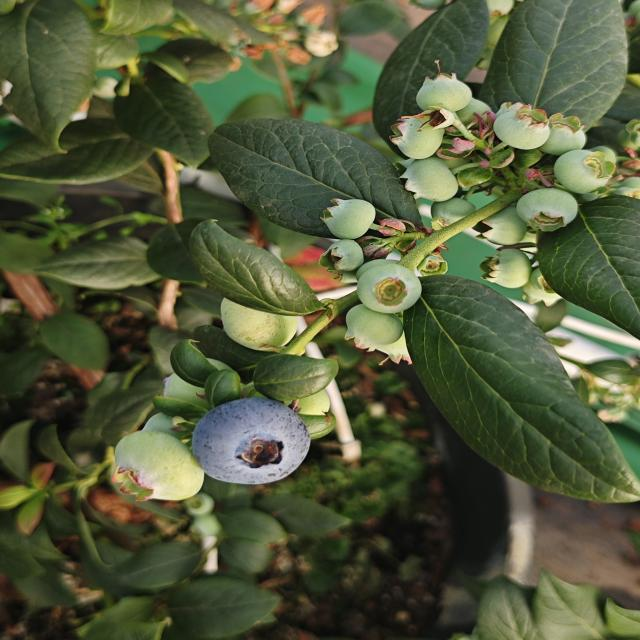ripe: (189, 396, 313, 486)
